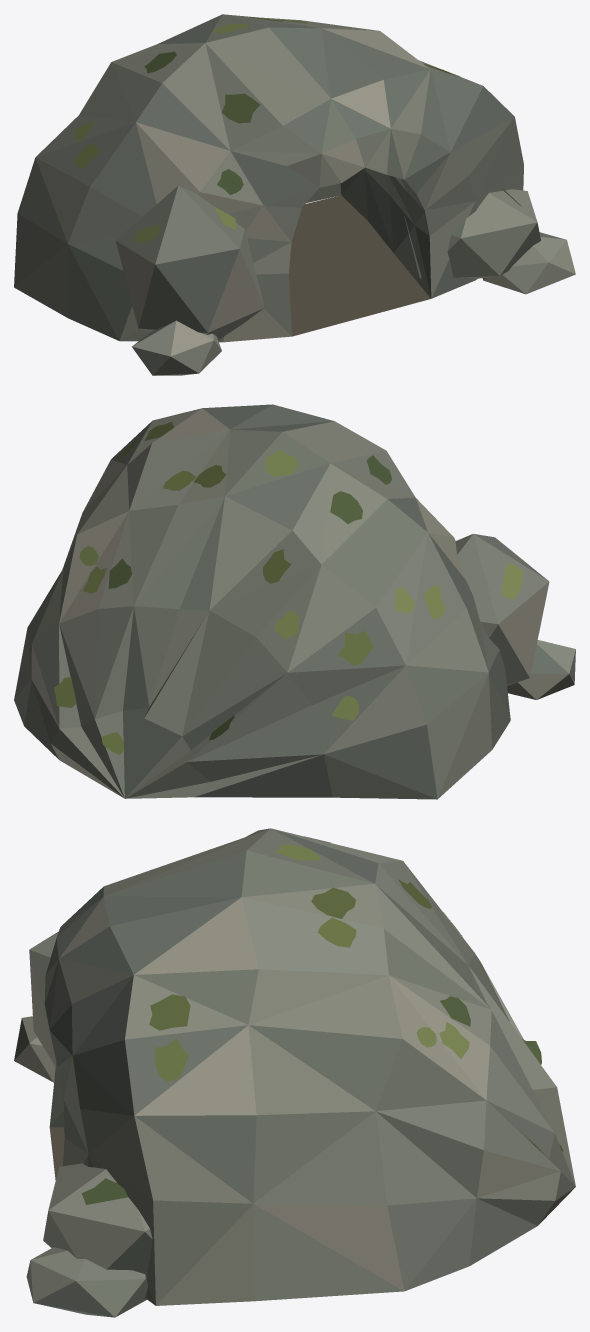
Rendered from zenscape-cave.glb.
3 views of the same model, one above another, from view 1: azimuth 30°, elevation 25°; view 2: azimuth 150°, elevation 25°; view 3: azimuth 270°, elevation 25° (orthographic). The views are drawn at different scales.
Visible parts, largest first — view 1: Mass - low asymmetric hillside rock, Entrance - weathered brow and shoulders, Shoulder - left split slab, Interior - continuous earthen floor, Shoulder - right low outcrop, Interior - curved sheltered passage, Toe - left embedded rock, Toe - right embedded rock, Moss - attached patch.003; view 2: Mass - low asymmetric hillside rock, Mass - buried back, Shoulder - left split slab, Toe - left embedded rock, Moss - attached patch.015, Moss - attached patch.007, Moss - attached patch.006, Moss - attached patch.021, Moss - attached patch.013, Moss - attached patch.017, Moss - attached patch.014, Moss - attached patch.008; view 3: Mass - low asymmetric hillside rock, Entrance - weathered brow and shoulders, Shoulder - right low outcrop, Toe - right embedded rock, Mass - buried back, Shoulder - left split slab, Toe - left embedded rock, Moss - attached patch.002, Moss - attached patch.001, Moss - attached patch.005, Moss - attached patch.004, Moss - attached patch.022 (+1 smaller).
Boxes of the visible parts, box(x1,y1,x2,y2) form: Mass - low asymmetric hillside rock: box(14, 14, 480, 340); Entrance - weathered brow and shoulders: box(119, 69, 523, 342); Shoulder - left split slab: box(115, 185, 264, 340); Interior - continuous earthen floor: box(289, 195, 430, 336); Shoulder - right low outcrop: box(404, 189, 540, 278); Interior - curved sheltered passage: box(340, 167, 431, 298); Toe - left embedded rock: box(132, 320, 221, 375); Toe - right embedded rock: box(482, 232, 575, 294); Moss - attached patch.003: box(221, 93, 260, 123); Mass - low asymmetric hillside rock: box(14, 404, 510, 799); Mass - buried back: box(51, 707, 210, 798); Shoulder - left split slab: box(455, 533, 549, 685); Toe - left embedded rock: box(507, 640, 575, 699); Moss - attached patch.015: box(338, 631, 373, 665); Moss - attached patch.007: box(330, 491, 362, 523); Moss - attached patch.006: box(265, 449, 297, 476); Moss - attached patch.021: box(500, 563, 523, 599); Moss - attached patch.013: box(263, 549, 291, 583); Moss - attached patch.017: box(54, 677, 76, 707); Moss - attached patch.014: box(274, 610, 299, 639); Moss - attached patch.008: box(424, 585, 444, 619); Mass - low asymmetric hillside rock: box(103, 828, 560, 1305); Entrance - weathered brow and shoulders: box(44, 887, 155, 1305); Shoulder - right low outcrop: box(43, 1163, 152, 1278); Toe - right embedded rock: box(26, 1247, 147, 1317); Mass - buried back: box(533, 1087, 575, 1224); Shoulder - left split slab: box(29, 932, 58, 1065); Toe - left embedded rock: box(14, 1016, 55, 1082); Moss - attached patch.002: box(149, 994, 190, 1030); Moss - attached patch.001: box(155, 1038, 188, 1082); Moss - attached patch.005: box(311, 887, 355, 918); Moss - attached patch.004: box(317, 917, 356, 947); Moss - attached patch.022: box(81, 1178, 127, 1204).
Size of the model in its own units: 11.43 by 6.49 by 9.76.
